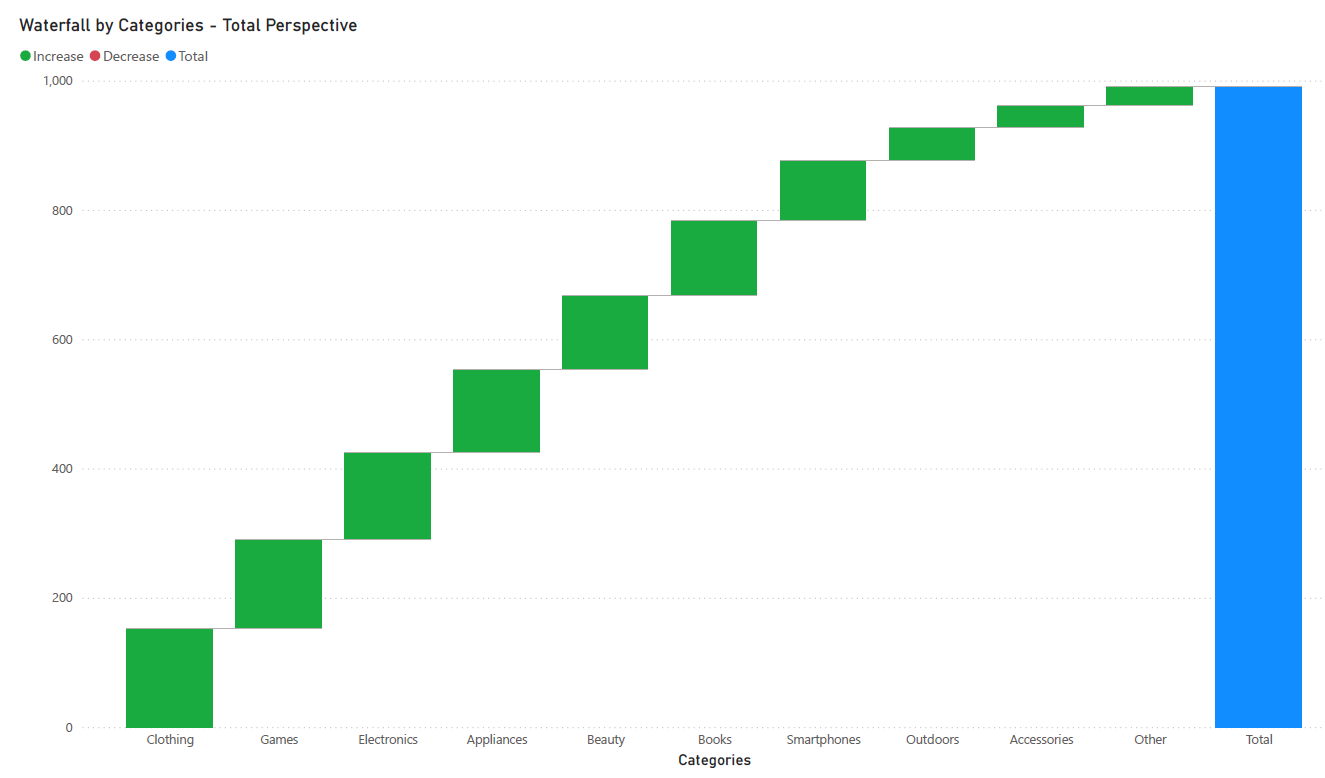

The page's visual inventory and layout, read from the dashboard file:
{"tool":"powerbi","page":{"name":"Waterfall","canvas":[1280,720],"ordinal":2},"visuals":[{"type":"waterfallChart","title":"Waterfall by Categories - Total Perspective","fields":{"Category":["sales data.category"],"Y":["CountNonNull(sales data.order_value_EUR)"]},"box":[9.6,0,1270.7,720.4],"z":0}]}

Visuals, with their boxes on the page's 1280x720 design canvas (x1, y1, x2, y2). These are canvas units, not pixel positions in the 1325x778 screenshot, which may show the page scaled, cropped or inside an application window:
"Waterfall by Categories - Total Perspective" waterfallChart: (x1=10, y1=0, x2=1280, y2=720)
